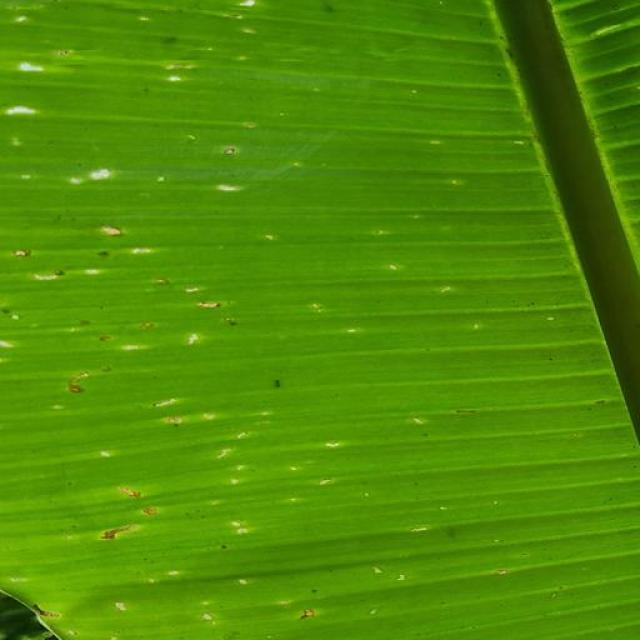Black_rot: (3, 6, 589, 640)
